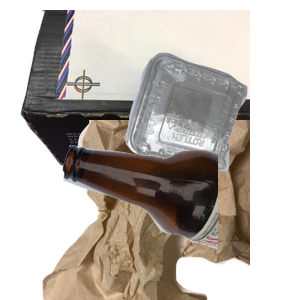cardboard: (18, 10, 258, 171)
glass: (60, 142, 300, 300)
plastic: (123, 50, 300, 214)
trash: (40, 120, 280, 300)
